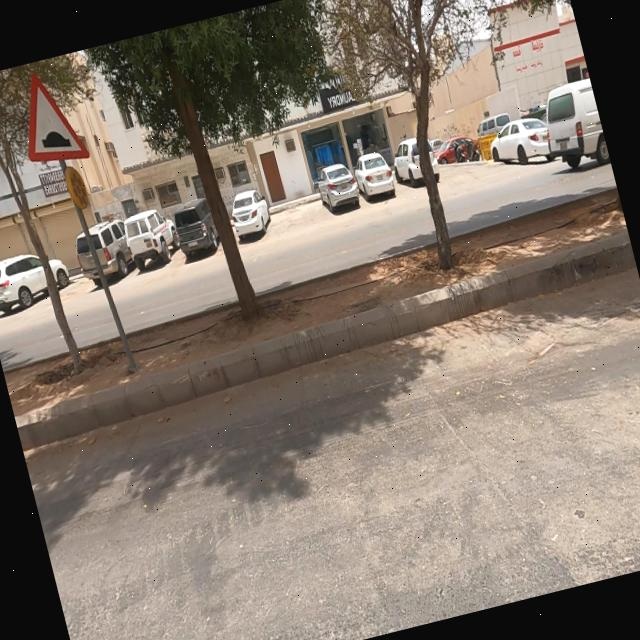Graffiti: (460, 115, 477, 138), (443, 121, 463, 140)
